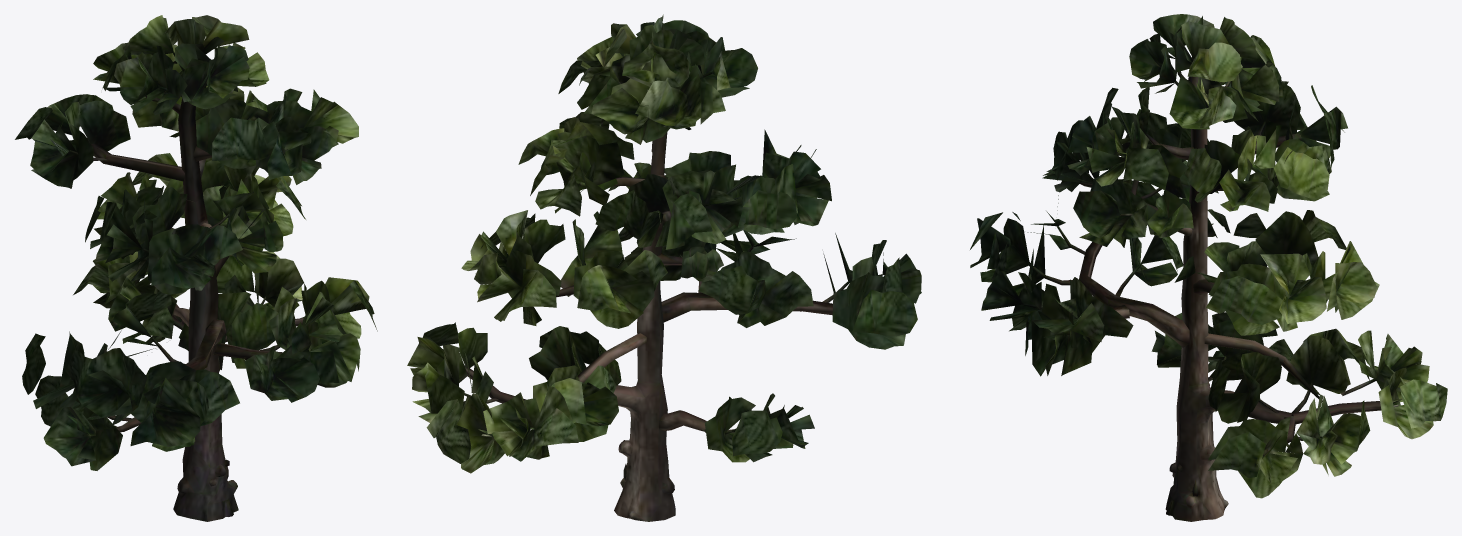
File: tree_pine.glb
3 views of the same model, side by side, from view 1: azimuth 30°, elevation 25°; view 2: azimuth 150°, elevation 25°; view 3: azimuth 270°, elevation 25° (orthographic). The views are drawn at different scales.
Size of the model in its own units: 5.74 by 6.4 by 5.77.
1 material, 1 textured.
